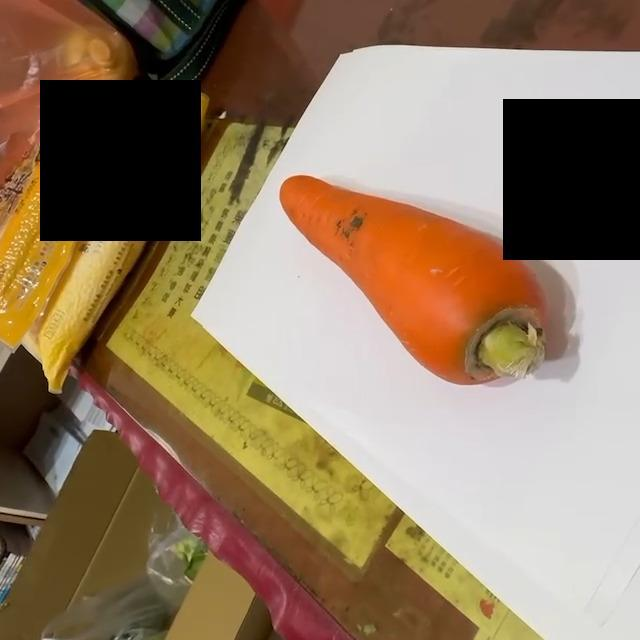carrot: (278, 175, 552, 385)
